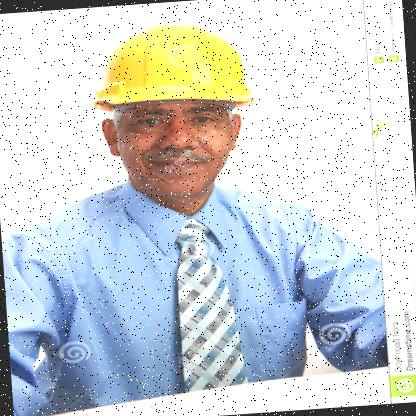capacete: (83, 14, 262, 211)
sem_colete_refletivo: (0, 171, 394, 397)
